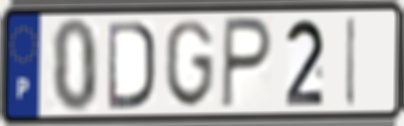0: (45, 16, 102, 116)
2: (284, 16, 326, 109)
D: (106, 18, 158, 112)
G: (163, 17, 217, 111)
I: (343, 14, 358, 110)
P: (219, 14, 275, 113)
